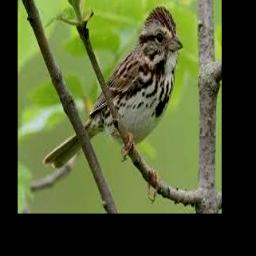Sparrow: (44, 7, 183, 201)
